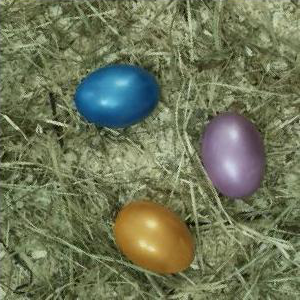egg: (113, 200, 196, 276), (200, 112, 266, 198), (75, 64, 160, 128)
